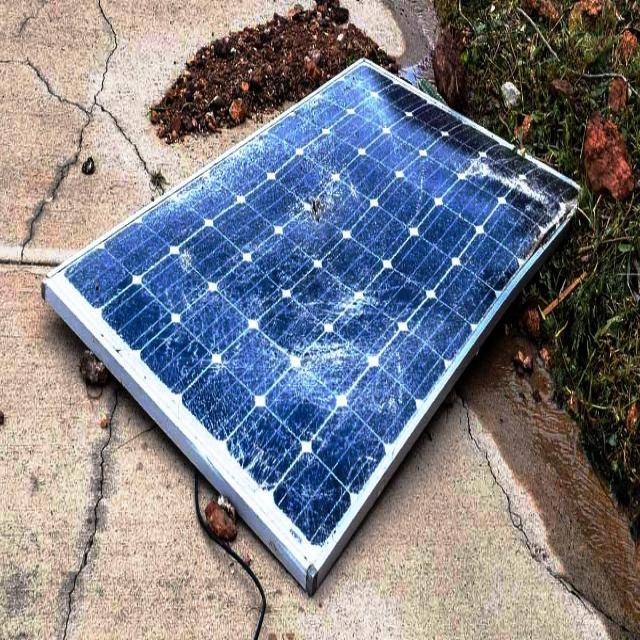faulty: (53, 58, 585, 561)
